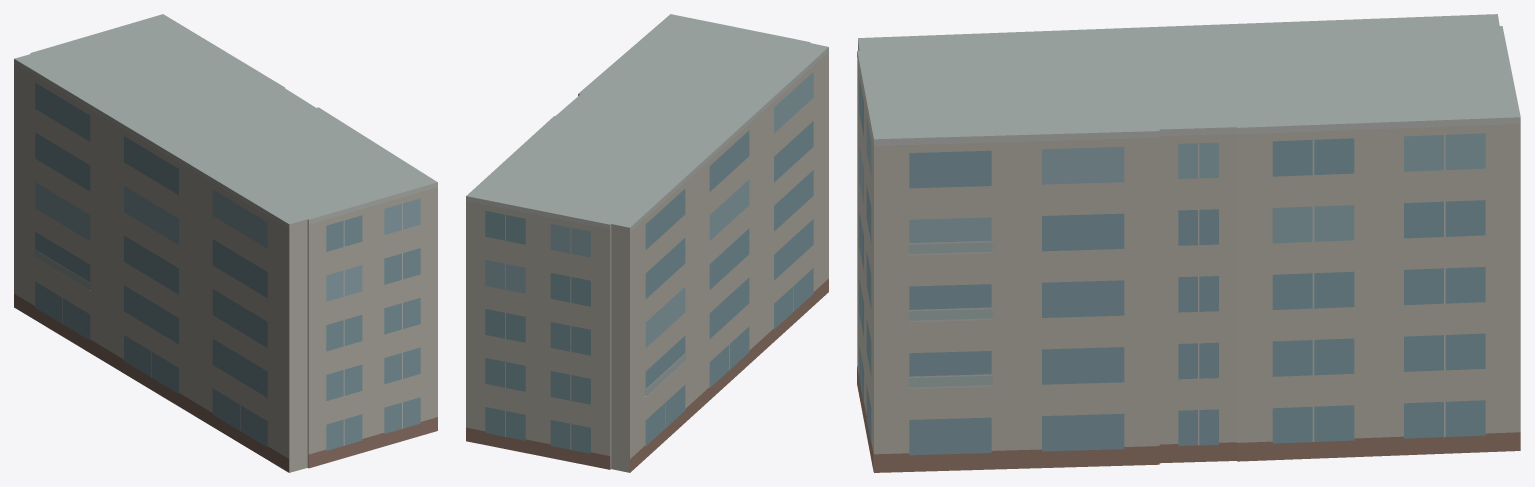
Rendered from survey-upis-32928317.glb.
The picture shows the model from 3 angles, left to right: view 1: azimuth 30°, elevation 25°; view 2: azimuth 150°, elevation 25°; view 3: azimuth 270°, elevation 25°; orthographic projection. The views are drawn at different scales.
Visible parts, largest first — view 1: survey-upis-32928317.tmp; view 2: survey-upis-32928317.tmp; view 3: survey-upis-32928317.tmp.
Part boxes in pixels (x1,y1,x2,y2): survey-upis-32928317.tmp: (14, 14, 437, 472); survey-upis-32928317.tmp: (466, 14, 828, 472); survey-upis-32928317.tmp: (857, 14, 1520, 472).
Bounding box in the file's own units: 10.01 × 12.42 × 22.4.
